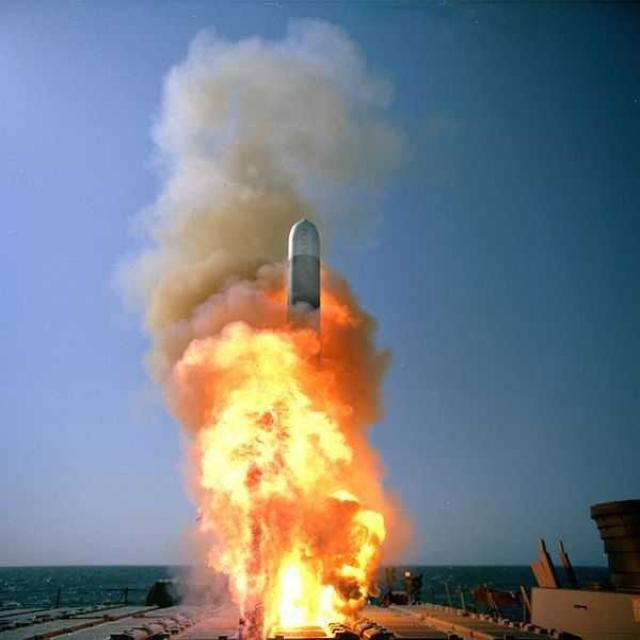missile: (216, 215, 382, 613)
